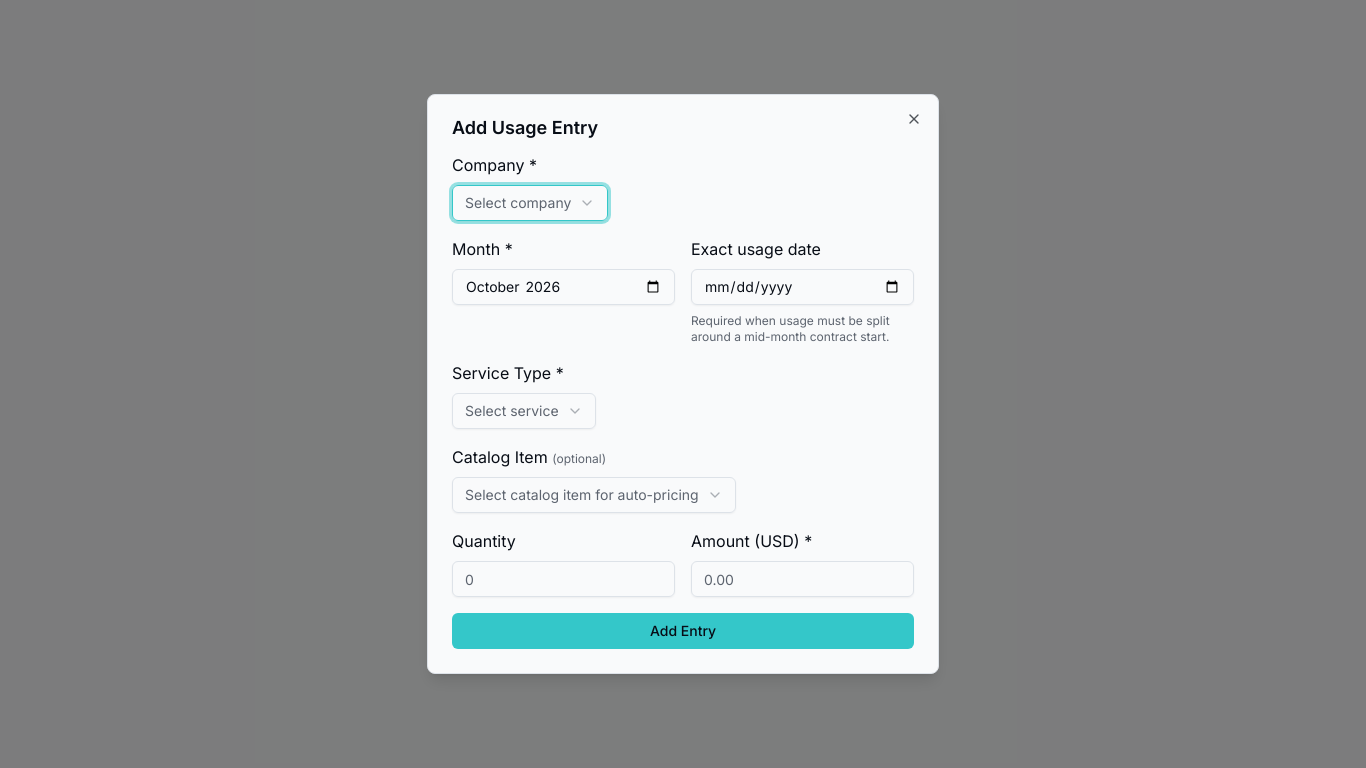
Test: UsageEntryDialog smart service filtering › renders EVS volume type rows with auto-priced and manual-pricing states
This screenshot has width=1366, height=768.
Click the dropdown labelled "Select company" at (530, 203), box [452, 185, 608, 221]
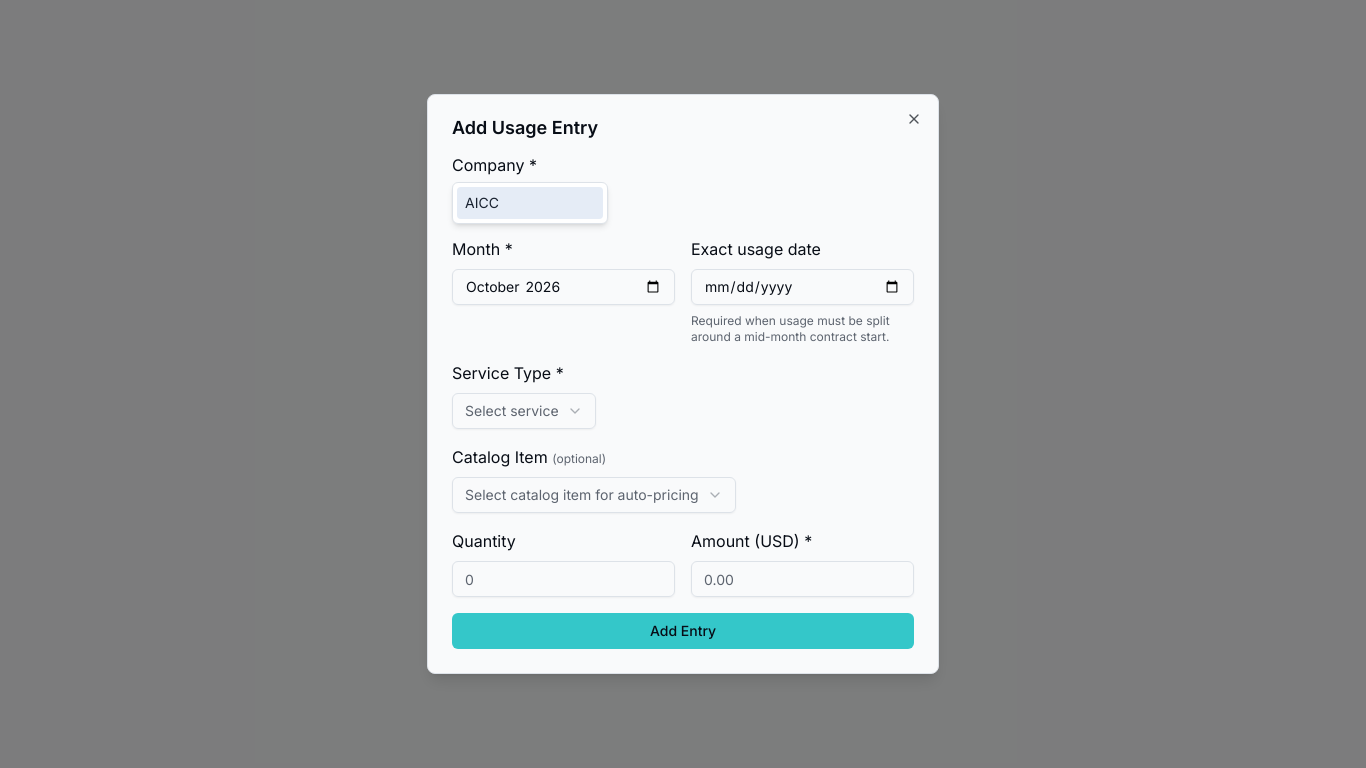
Click the option "AICC" at (530, 203), box [457, 187, 603, 219]
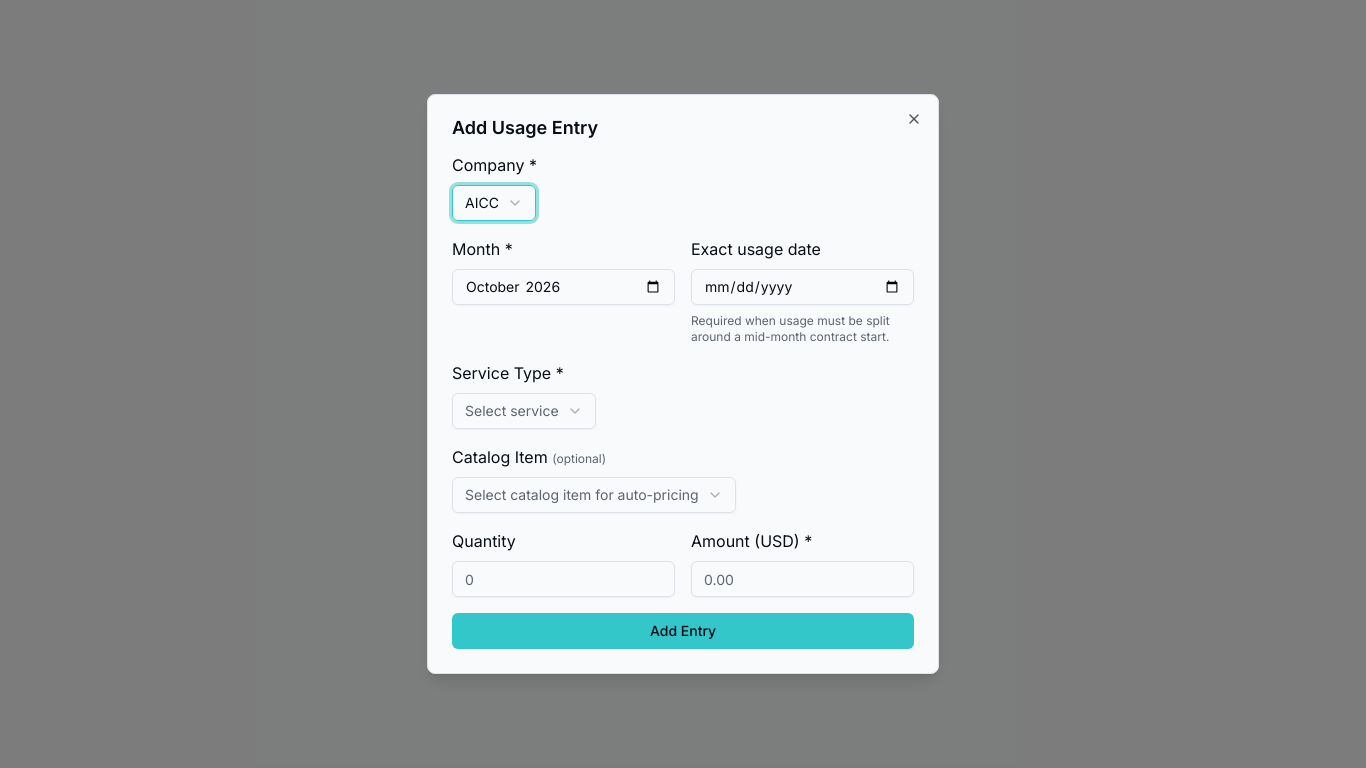
Click the dropdown labelled "Select service" at (524, 411), box [452, 393, 596, 429]
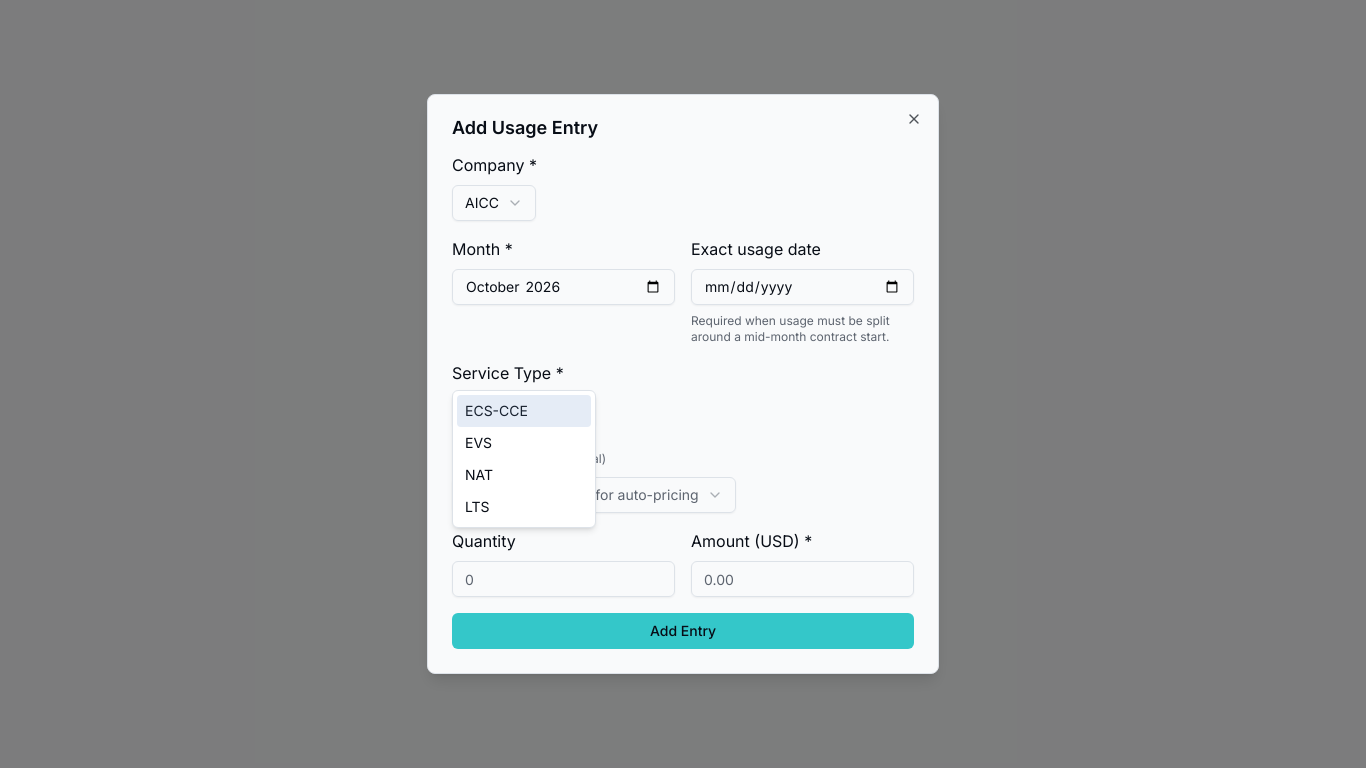
Click the option "EVS" at (479, 442), box [465, 434, 492, 451]
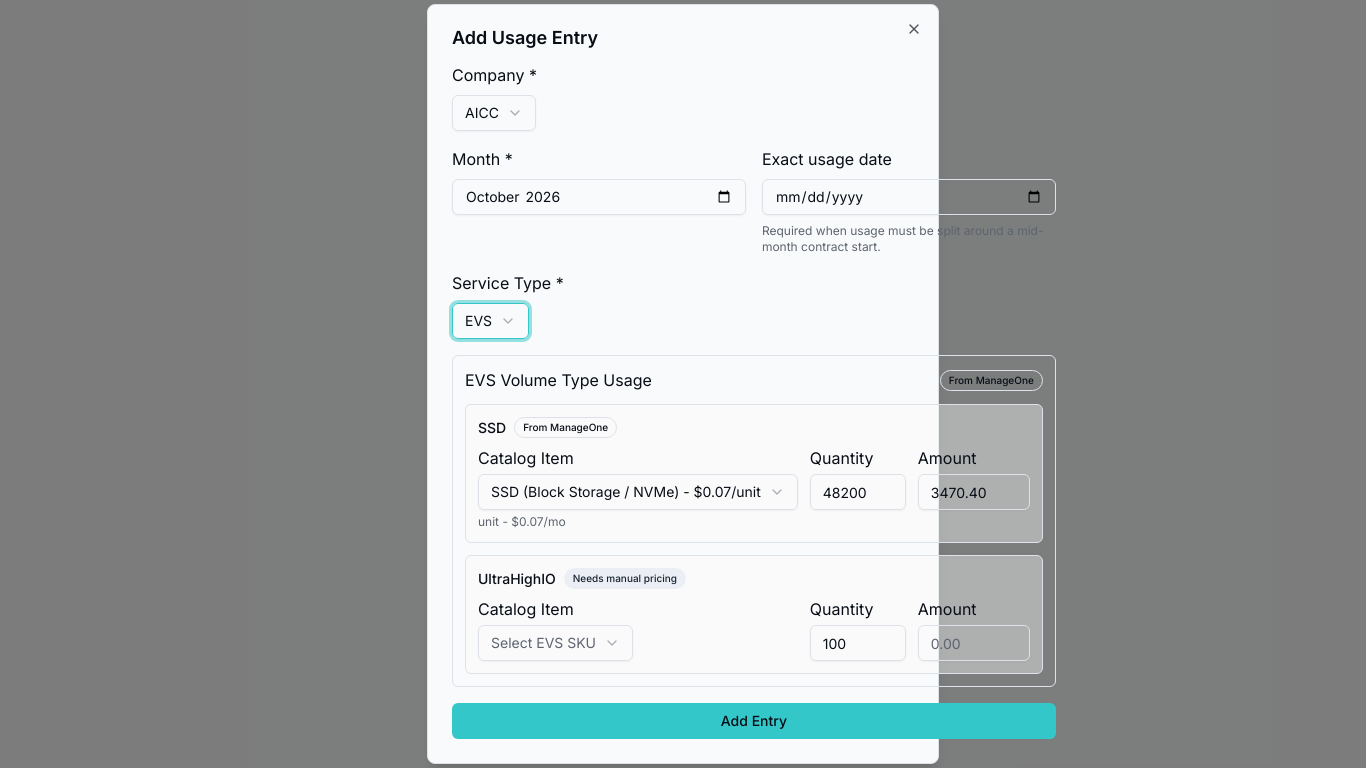
Expected: the text "SSD" is shown, [478, 418, 506, 438]
Expected: the text "UltraHighIO" is shown, [478, 568, 556, 588]
Expected: the text "From ManageOne" is shown 2 times, [940, 370, 1043, 390]; [514, 417, 617, 438]
